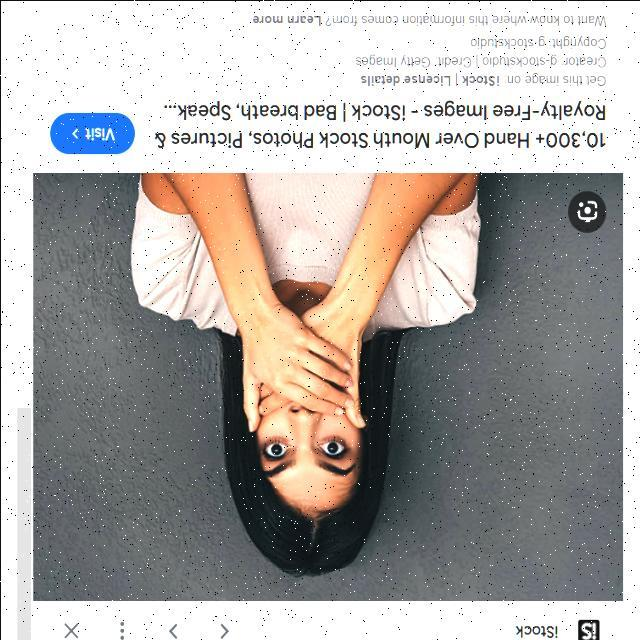face_with_hand: (236, 301, 370, 521)
